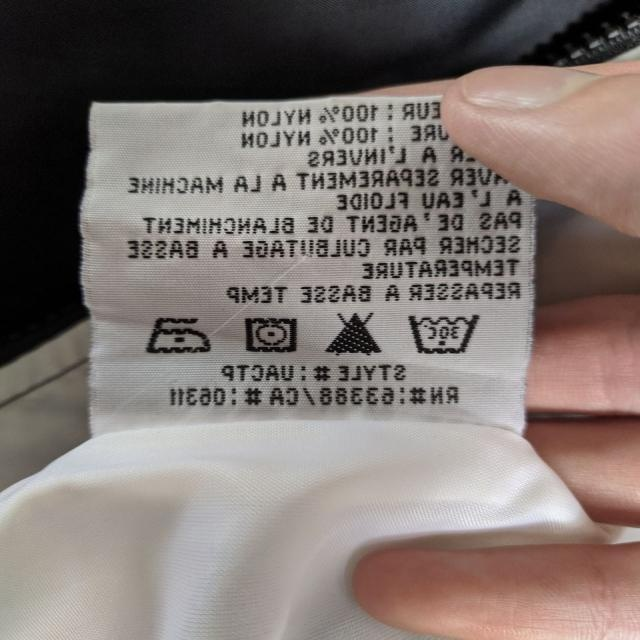30C: (402, 308, 477, 358)
DN_bleach: (323, 312, 384, 357)
iron_low: (145, 312, 211, 356)
tumble_dry_low: (238, 315, 300, 354)
